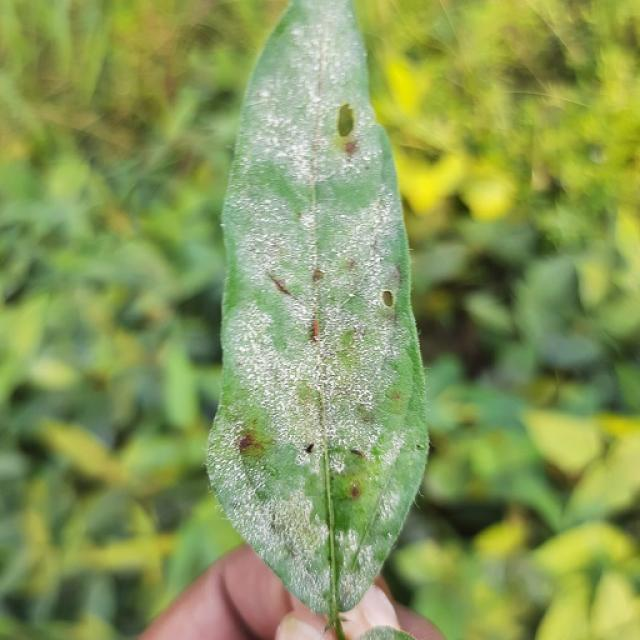Blackgram: (208, 0, 428, 622)
Powdery_Mildew: (297, 188, 392, 322), (250, 61, 333, 184), (280, 15, 356, 119), (316, 334, 382, 420), (239, 311, 293, 404), (218, 465, 281, 542), (240, 200, 302, 277), (267, 491, 328, 569), (306, 349, 349, 456), (212, 452, 257, 507), (330, 524, 366, 573), (332, 567, 370, 611), (375, 491, 400, 526), (209, 456, 234, 488), (295, 450, 311, 466), (291, 27, 303, 39), (259, 89, 270, 99), (263, 198, 274, 207)
